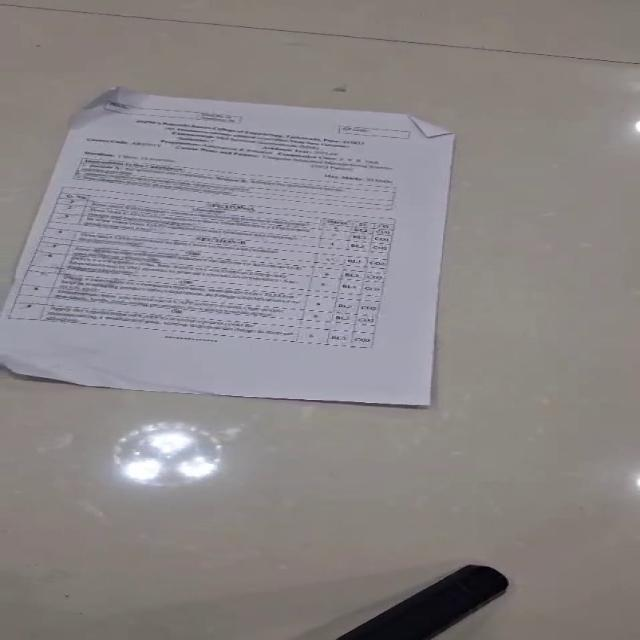paper: (0, 85, 457, 407)
